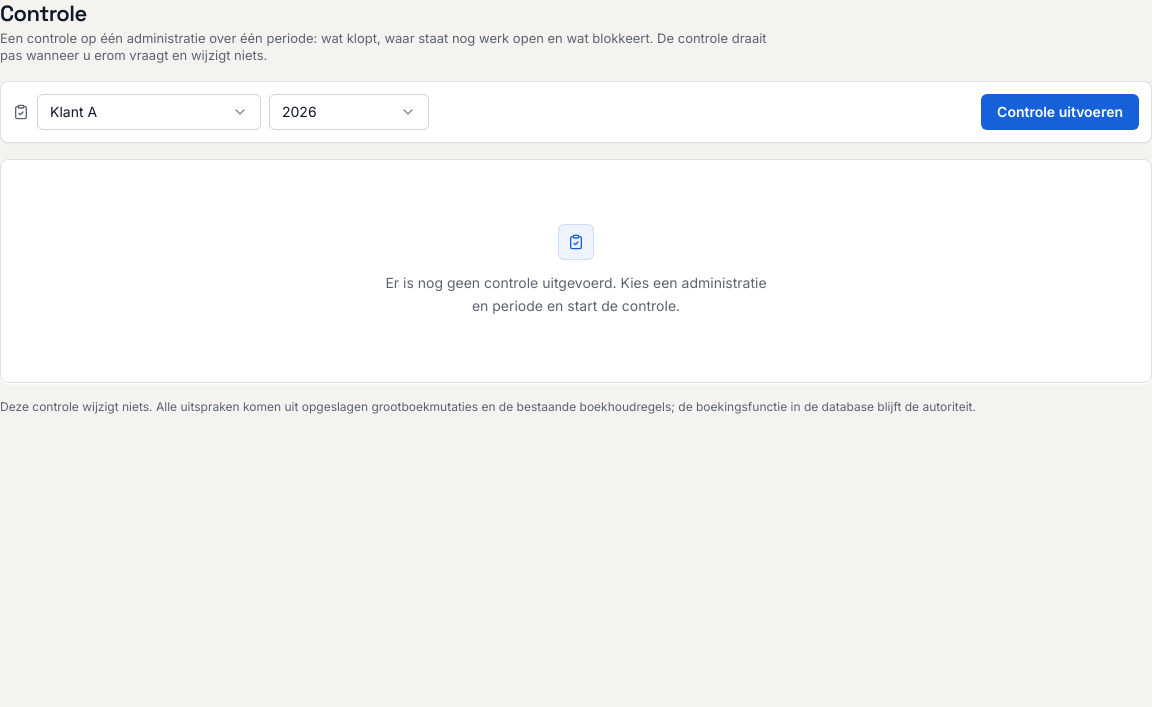
de gebruiker start de controle zelf › 12. na de klik verschijnt het rapport met administratie en periode
Click the button with test id "controle-uitvoeren". click: (1060, 112)
box: [981, 94, 1139, 130]
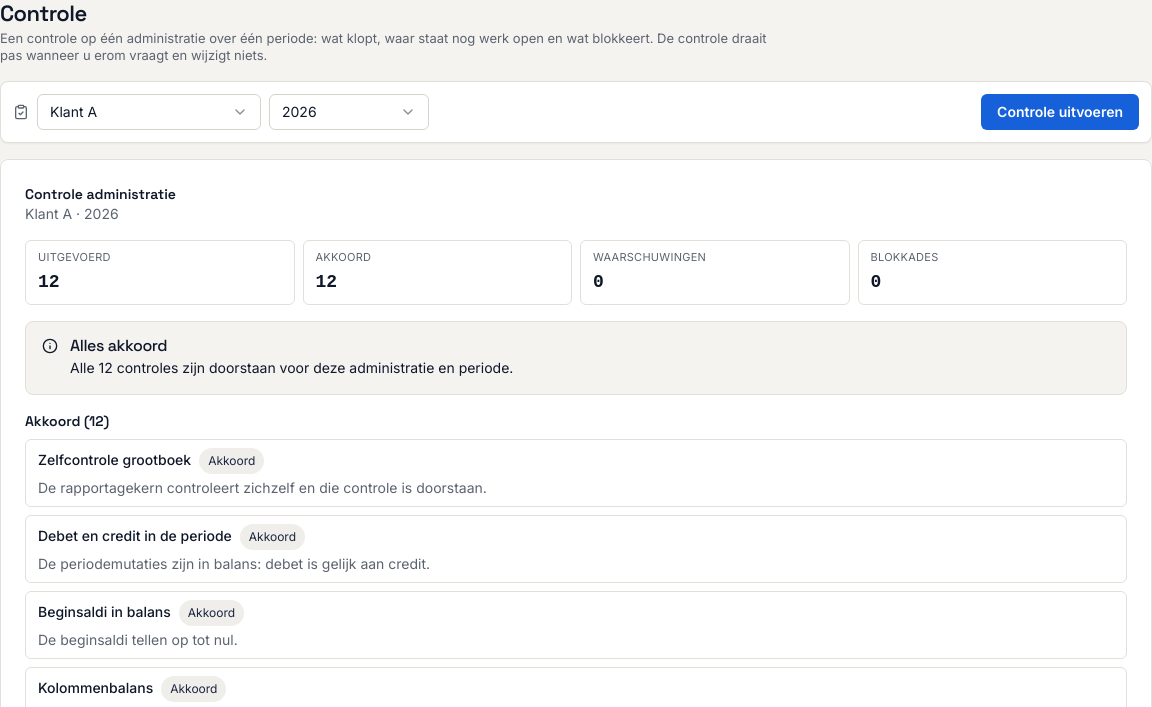
Check: the text with test id "controle-context" shows "Klant A", box [25, 205, 119, 222]
Check: the text with test id "controle-context" shows "2026", box [25, 205, 119, 222]
